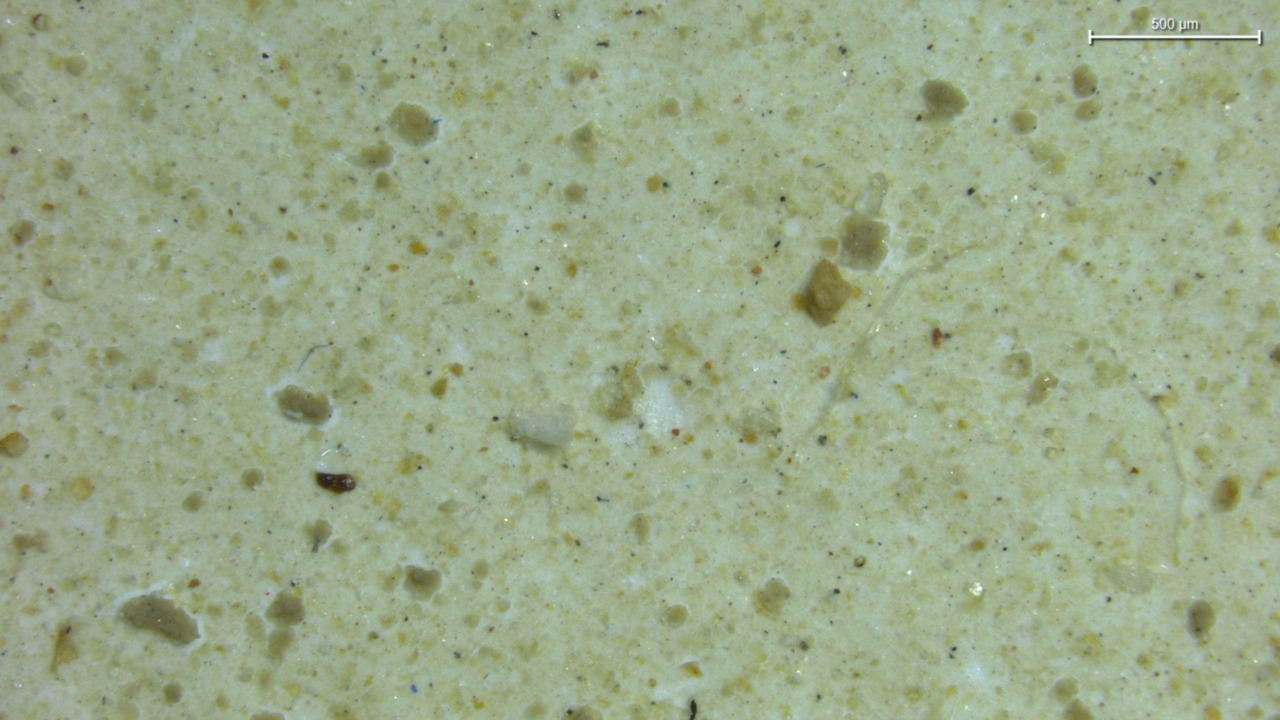microplastic_fragment: (797, 259, 858, 325), (509, 403, 576, 448)
